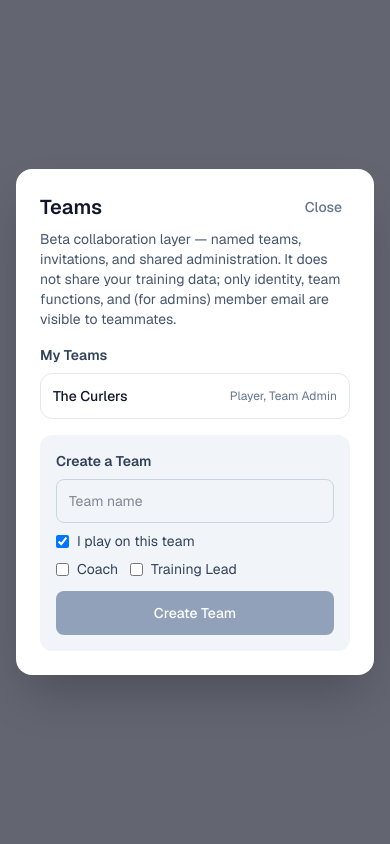
Test: TeamsScreen — signed in › renames a team
Click the text "The Curlers" at x=90, y=396, box [53,386,128,406]
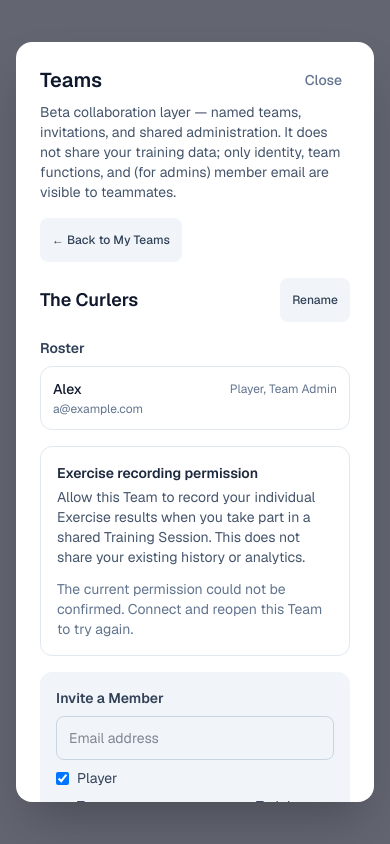
expect the heading "Roster" is shown: met, box [40,339,85,357]
Click the button "Rename" at x=315, y=300, box [280,278,350,322]
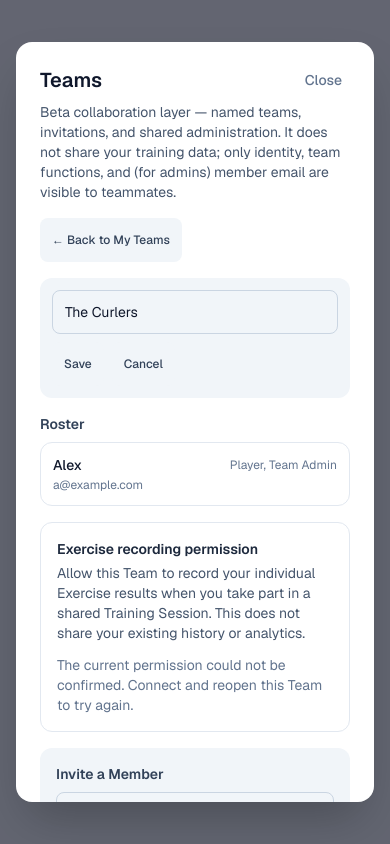
Replace the text in the field showing "The Curlers" with "Ice Breakers" at x=195, y=312, box [52,290,338,334]
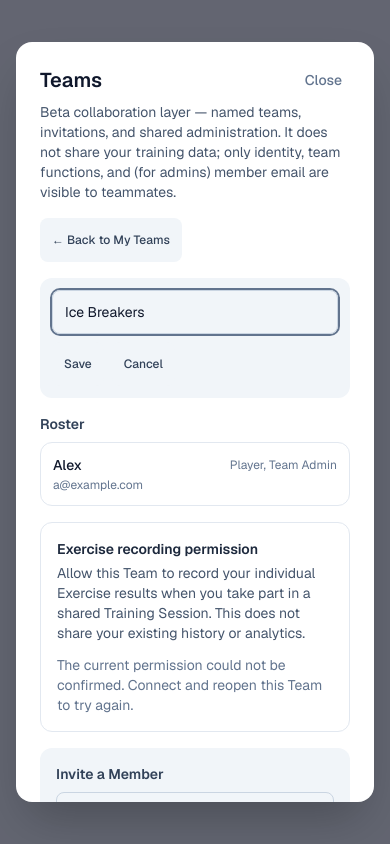
Click the button "Save" at x=78, y=364, box [52,342,104,386]
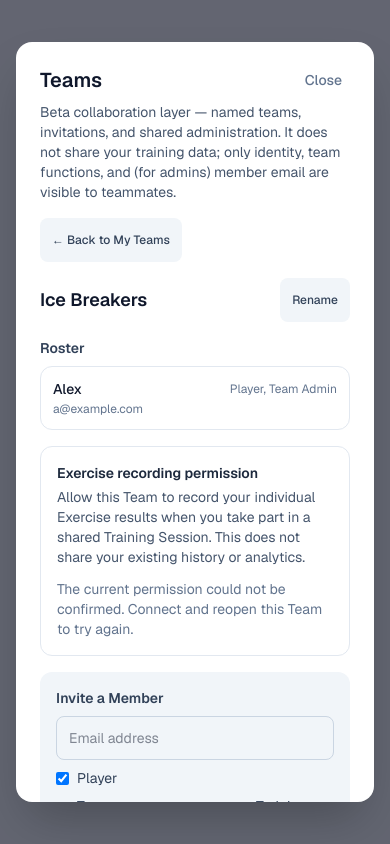
expect the heading "Ice Breakers" is shown: met, box [40,286,147,314]
